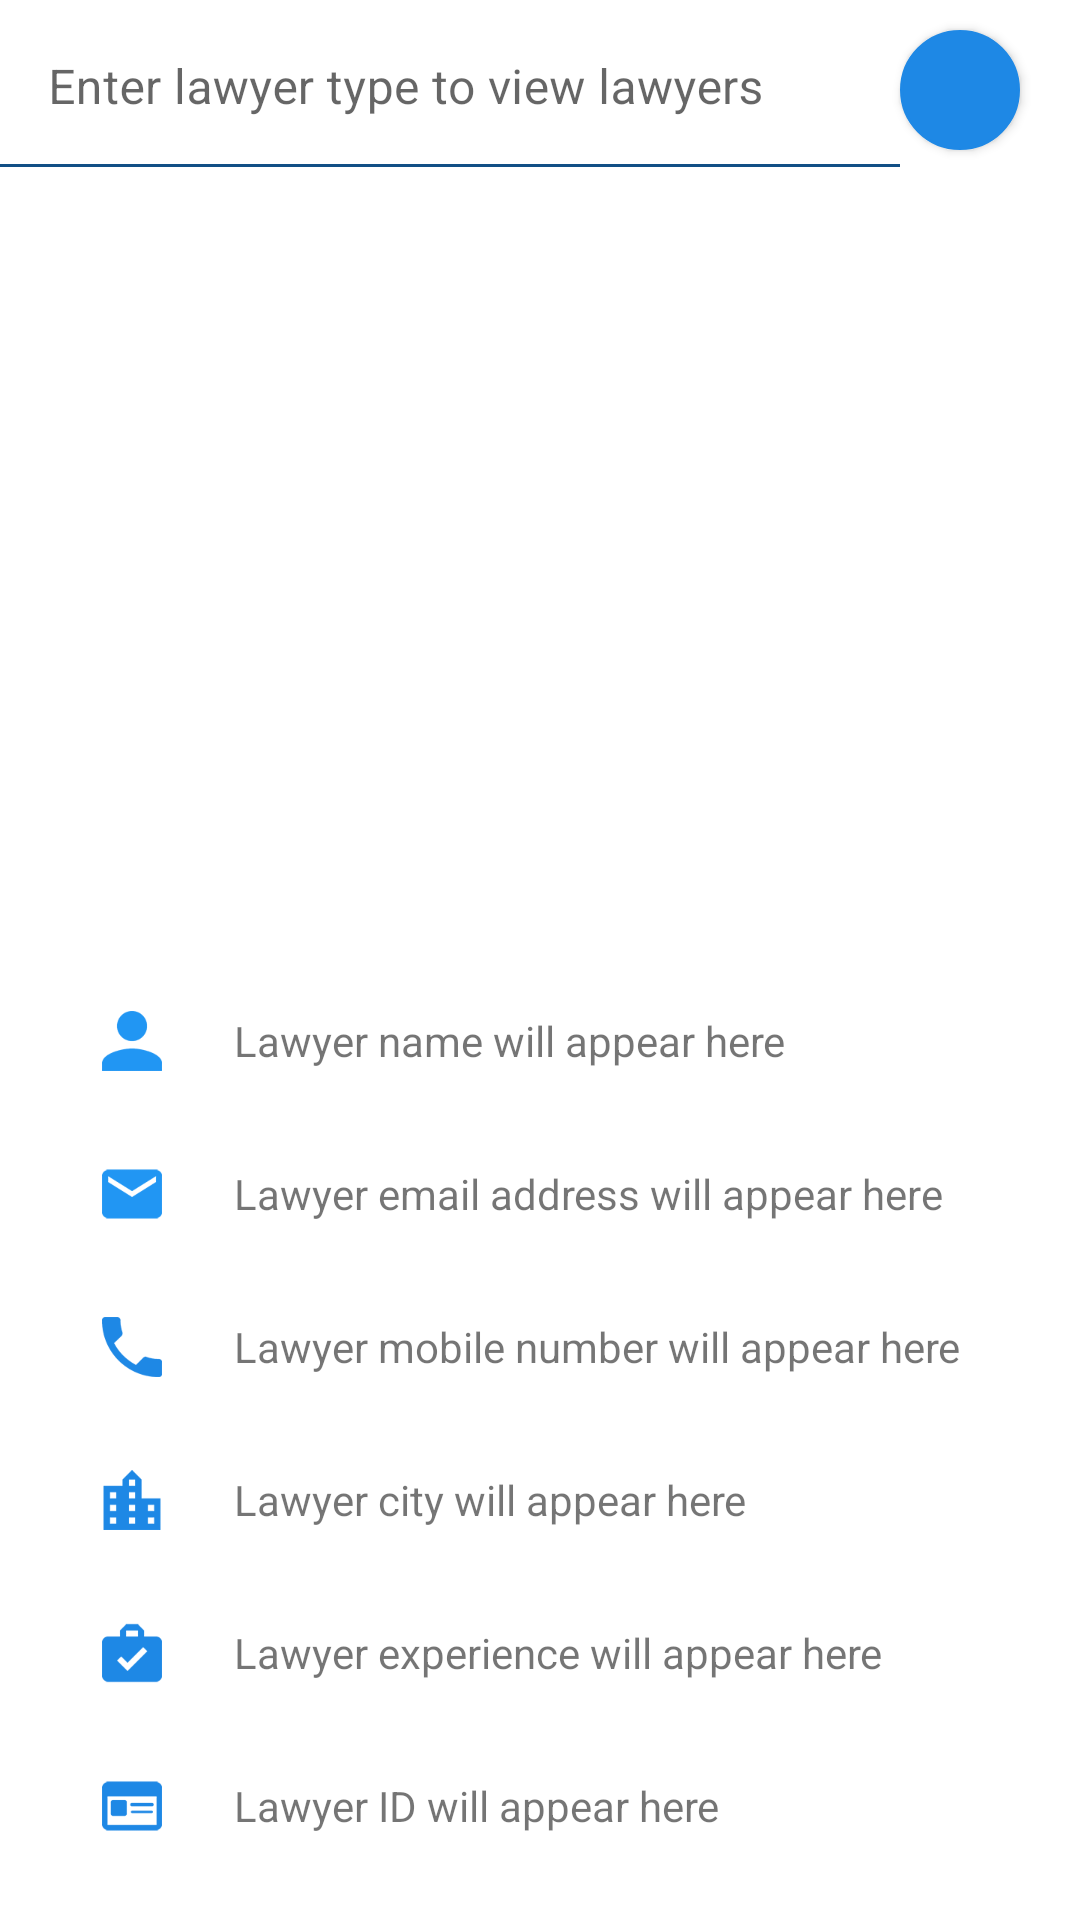

Icons on this 1080w x 1920h Android screen, each with the point to tap as (x=x, y=y):
adv id: (x=132, y=1806)
emain: (x=132, y=1194)
phone: (x=132, y=1347)
user shape: (x=132, y=1041)
work exp: (x=132, y=1653)
